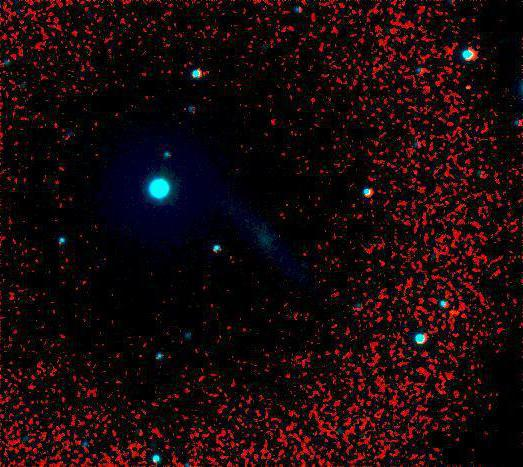star: (452, 71, 482, 101)
